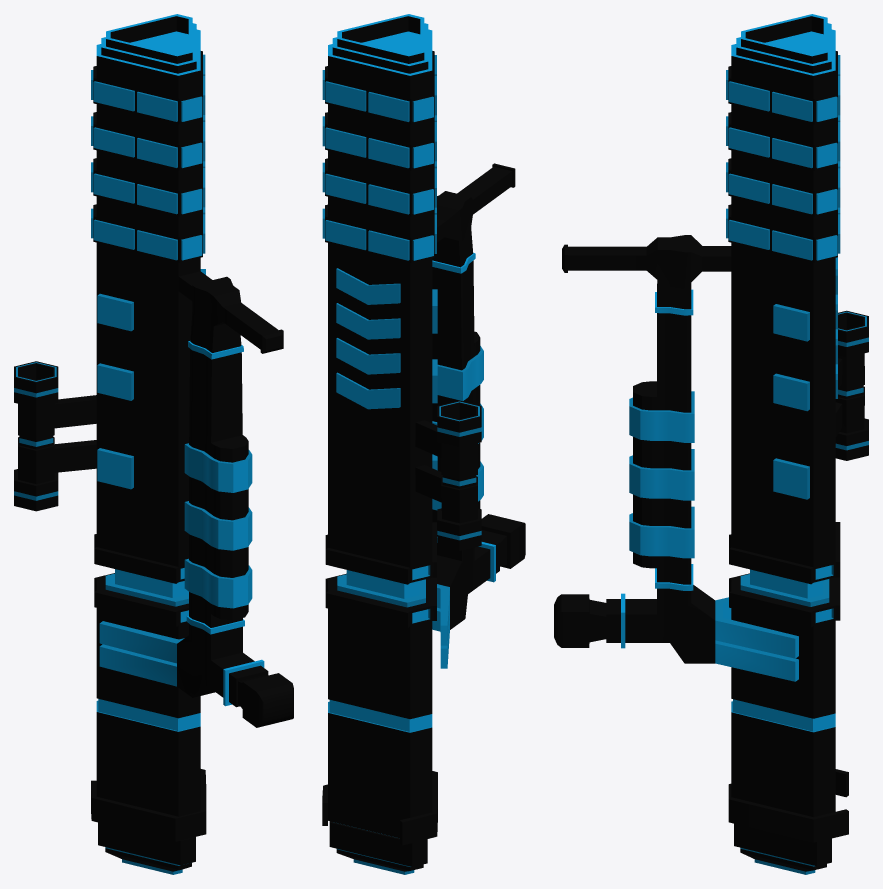
File: babazuka (1).fbx
3 views of the same model, side by side, from view 1: azimuth 30°, elevation 25°; view 2: azimuth 150°, elevation 25°; view 3: azimuth 270°, elevation 25° (orthographic).
Visible parts, largest first — view 1: Rocket Launcher, Rocket; view 2: Rocket Launcher, Rocket; view 3: Rocket Launcher, Rocket.
Boxes of the visible parts, bbox=[...] form: Rocket Launcher: bbox=[14, 14, 293, 841]; Rocket: bbox=[98, 582, 195, 874]; Rocket Launcher: bbox=[322, 14, 525, 845]; Rocket: bbox=[329, 585, 427, 874]; Rocket Launcher: bbox=[554, 14, 868, 842]; Rocket: bbox=[734, 582, 831, 874].
Size of the model in its own units: 241 by 1079 by 373.
